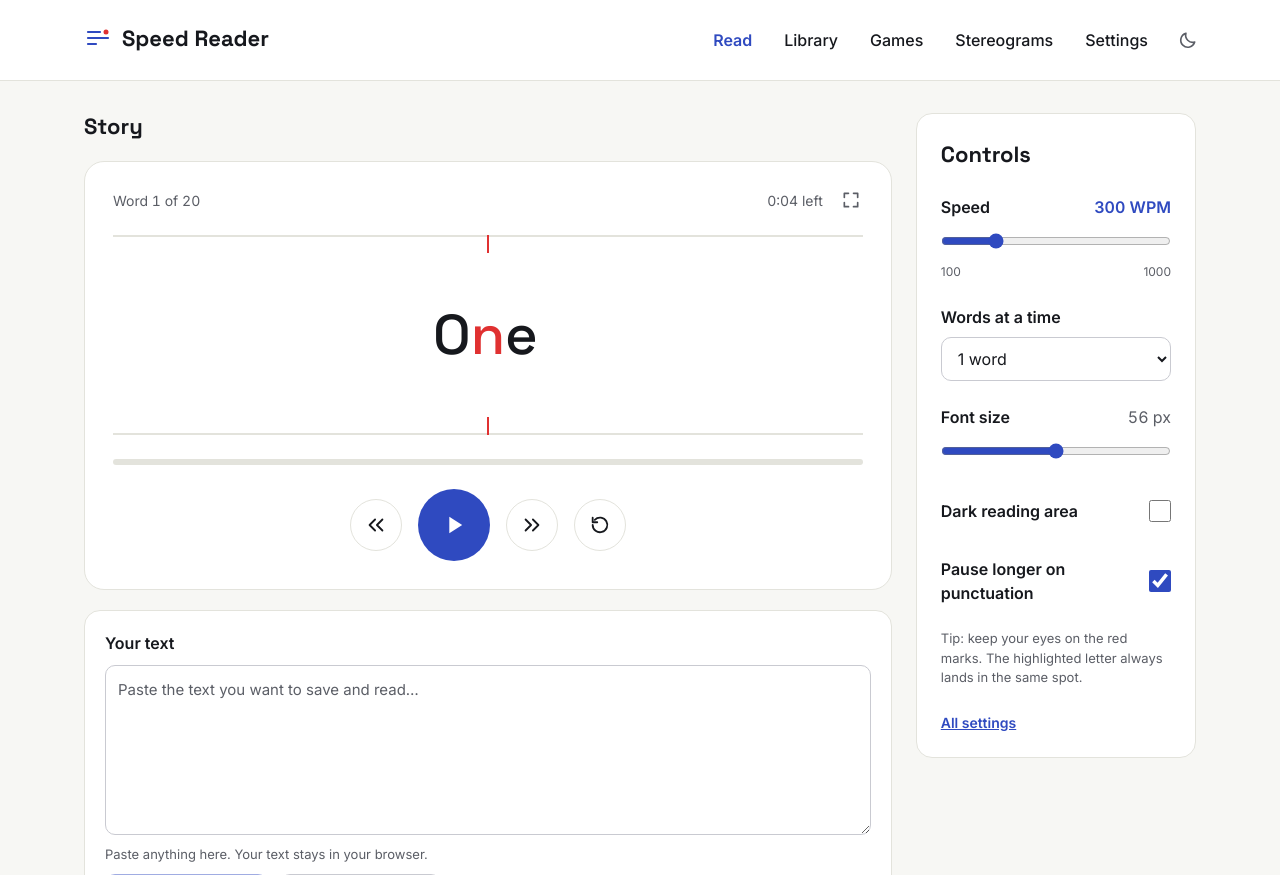
Test: reader › saves your place when you leave
Step 1. Click the button named "Forward 10 words" → (532, 524), box x1=506 y1=498 x2=558 y2=550
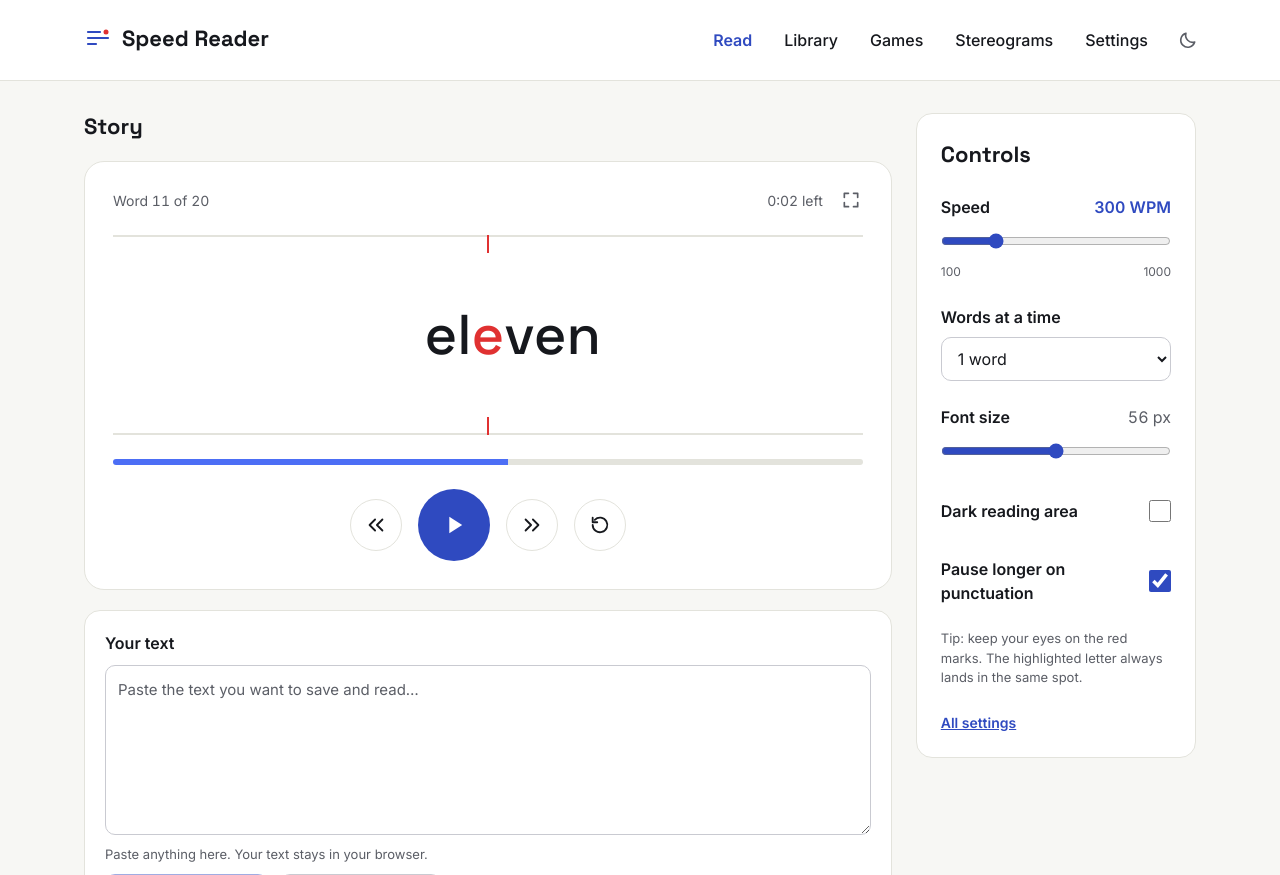
Step 2. Click the link "Library" → (811, 40), box x1=784 y1=30 x2=838 y2=50
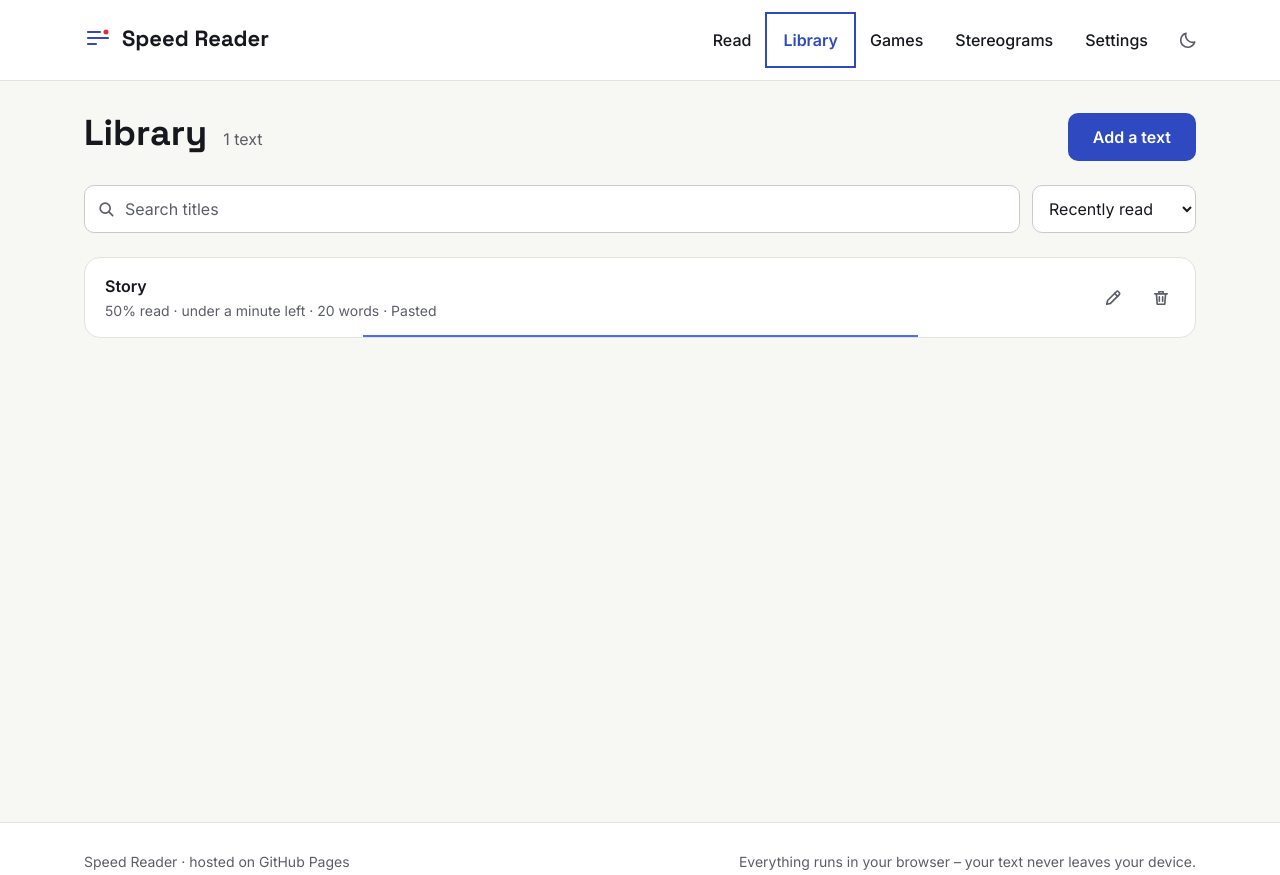
Check: the link "Story 50% read · under a minute left · 20 words · Pasted" is shown, box x1=105 y1=276 x2=436 y2=319
